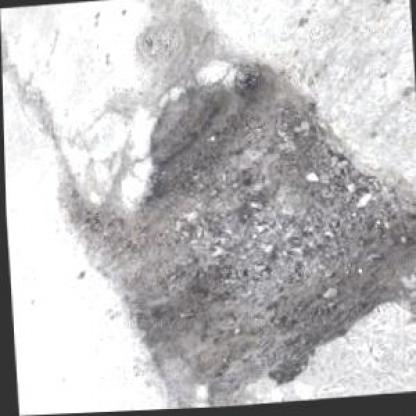pothole: (51, 50, 415, 408)
